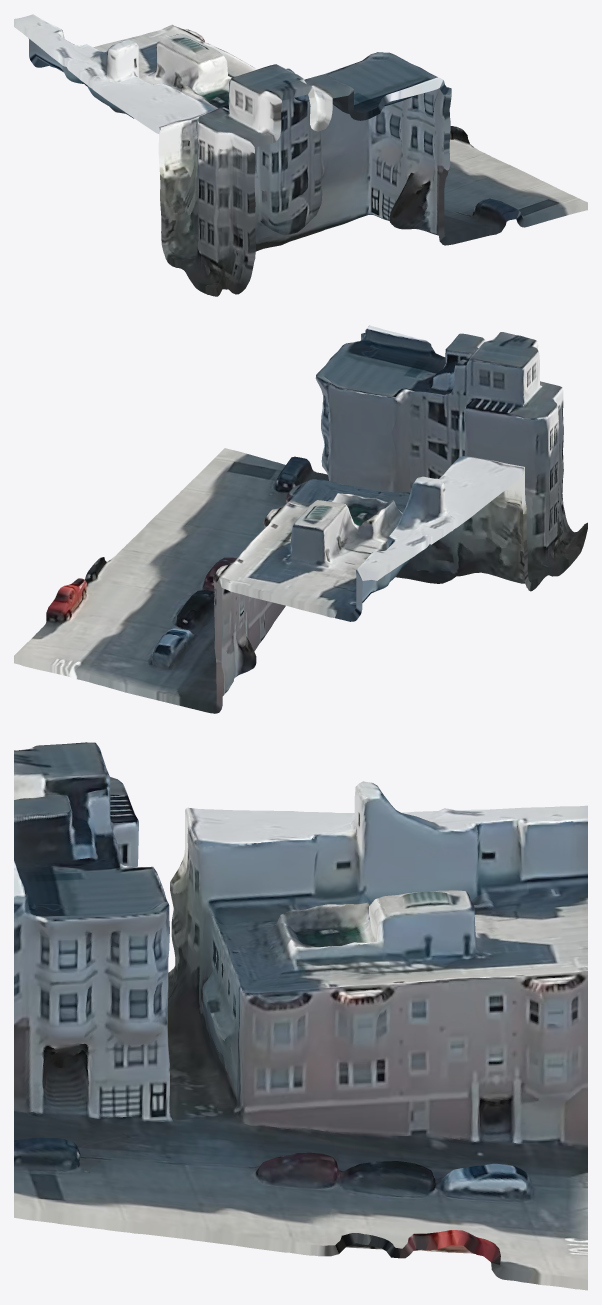
File: z20-167740-405196-h0-yup-uvflip-v3-world.glb
The picture shows the model from 3 angles, top to bottom: view 1: azimuth 30°, elevation 25°; view 2: azimuth 150°, elevation 25°; view 3: azimuth 270°, elevation 25°; orthographic projection. The views are drawn at different scales.
Bounding box in the file's own units: 30.16 × 19.64 × 30.32.
1 material, 1 textured.
